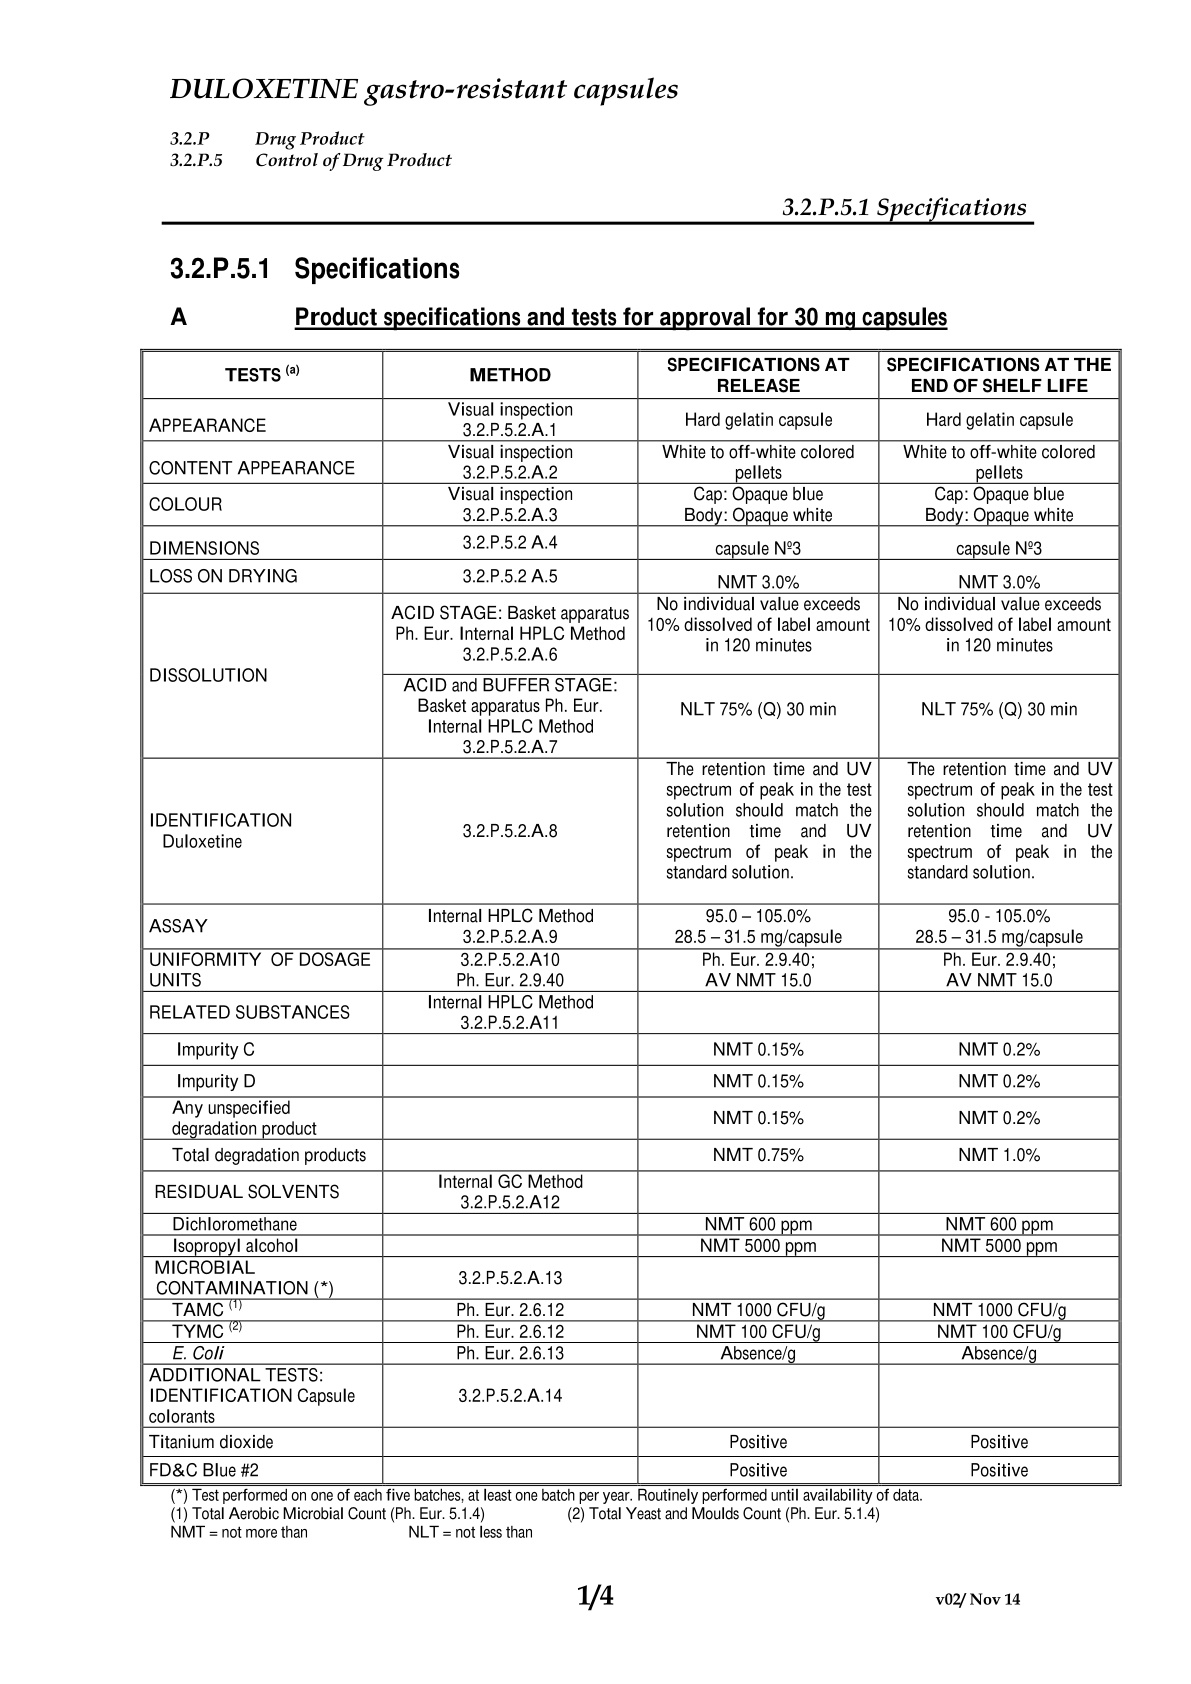merged_cells: (140, 348, 1121, 1487)
